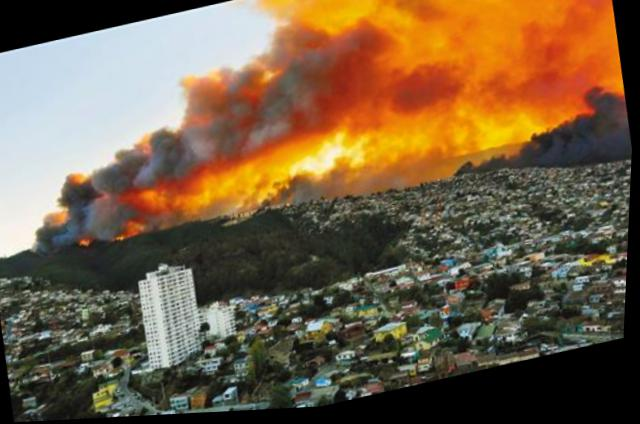fire: (366, 0, 621, 124), (348, 90, 534, 178), (131, 160, 268, 235), (258, 0, 379, 47), (259, 127, 351, 188), (524, 80, 588, 133)
